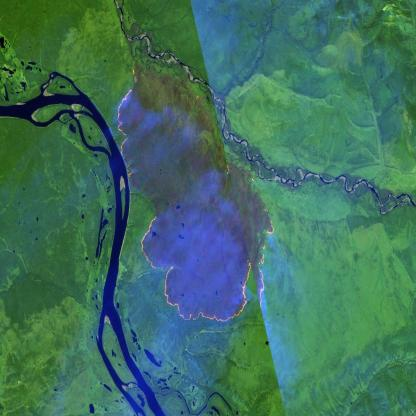fire: (138, 215, 280, 330), (113, 66, 142, 184)
